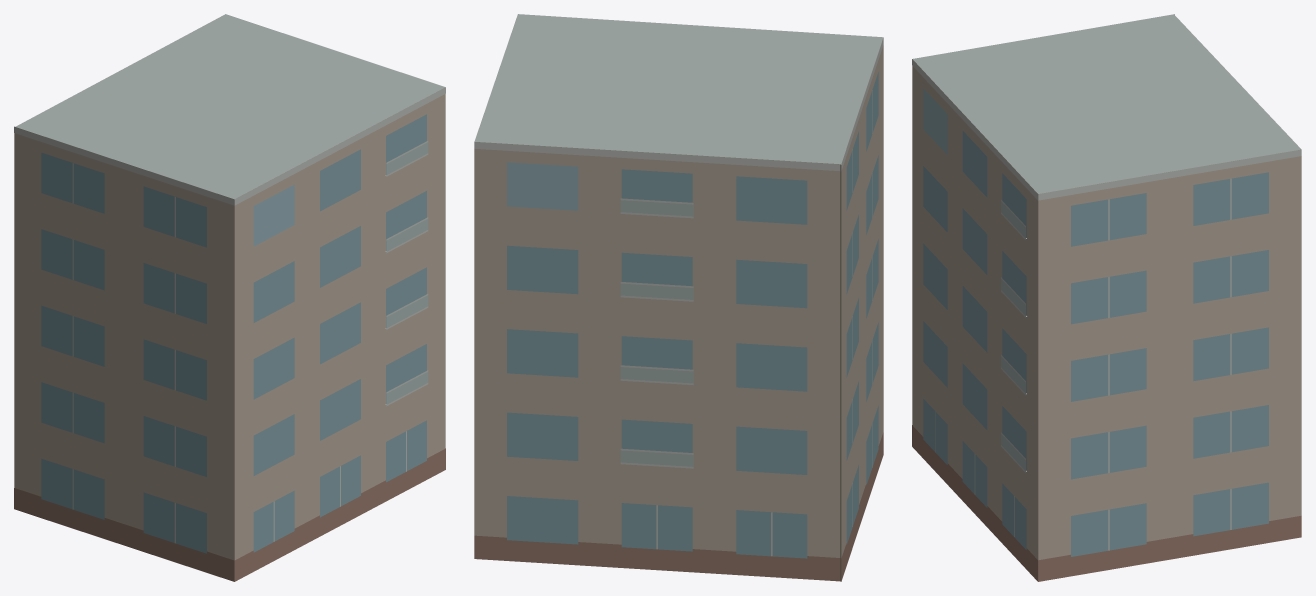
Rendered from survey-upis-32684184.glb.
3 views of the same model, side by side, from view 1: azimuth 30°, elevation 25°; view 2: azimuth 150°, elevation 25°; view 3: azimuth 270°, elevation 25° (orthographic). The views are drawn at different scales.
Visible parts, largest first — view 1: survey-upis-32684184.tmp; view 2: survey-upis-32684184.tmp; view 3: survey-upis-32684184.tmp.
Boxes of the visible parts, left/top/right/bottom form: survey-upis-32684184.tmp: left=14, top=14, right=445, bottom=581; survey-upis-32684184.tmp: left=474, top=14, right=883, bottom=581; survey-upis-32684184.tmp: left=912, top=14, right=1301, bottom=581.
Size of the model in its own units: 14.45 by 14.5 by 13.21.
